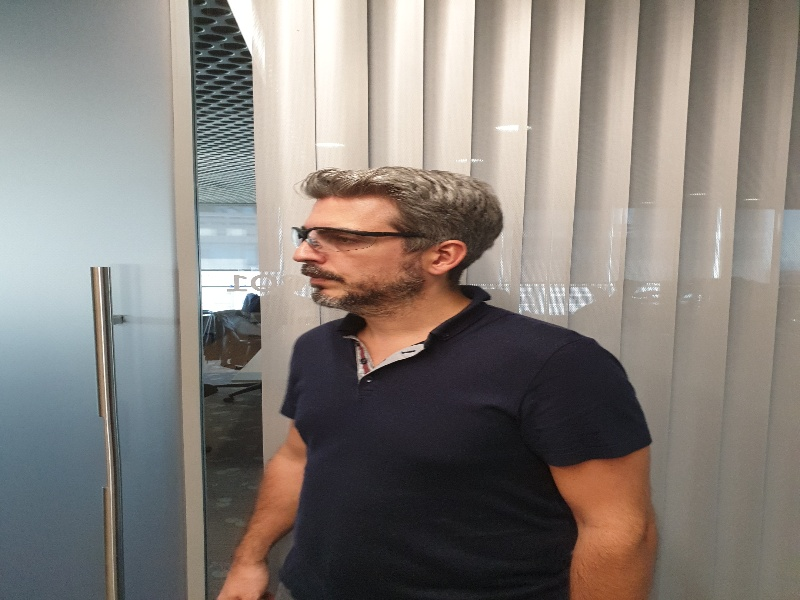Gozluk: (295, 225, 406, 251)
